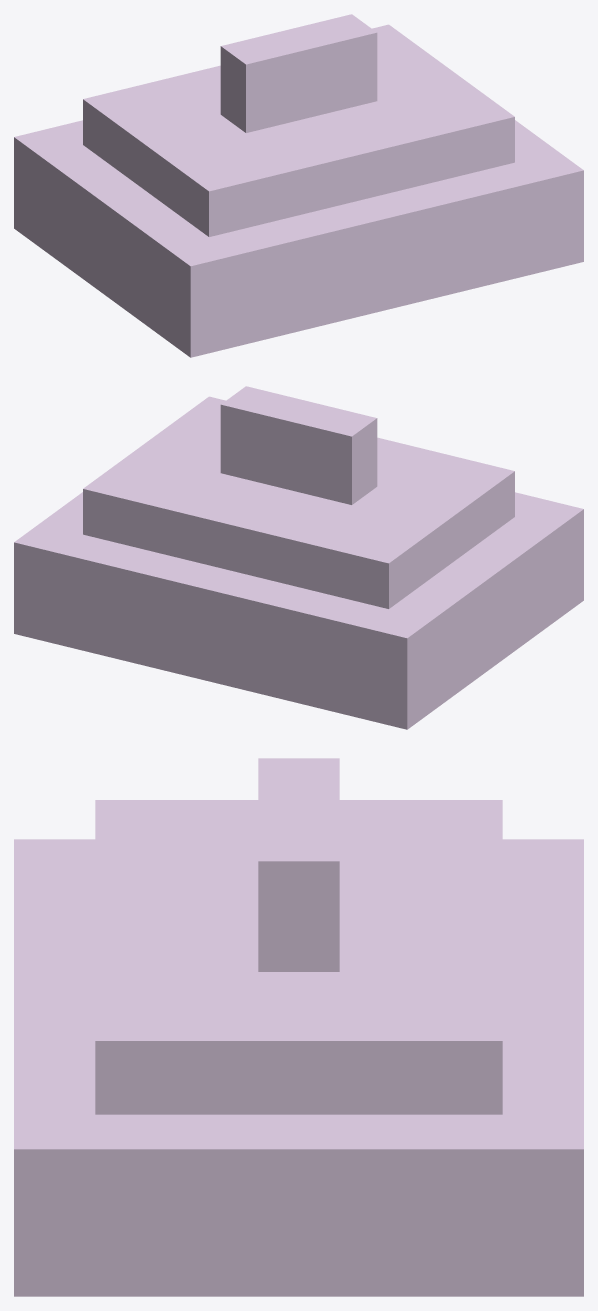
Rendered from TPL-VILLA.glb.
3 renders of one model, top to bottom at view 1: azimuth 30°, elevation 25°; view 2: azimuth 150°, elevation 25°; view 3: azimuth 270°, elevation 25°, orthographic. The views are drawn at different scales.
Visible parts, largest first — view 1: Villa / Row House; view 2: Villa / Row House; view 3: Villa / Row House.
Part boxes in pixels (x1,y1,x2,y2): Villa / Row House: (14, 14, 583, 357); Villa / Row House: (14, 386, 583, 729); Villa / Row House: (14, 758, 583, 1296).
Bounding box in the file's own units: 22 × 11 × 17.11.
